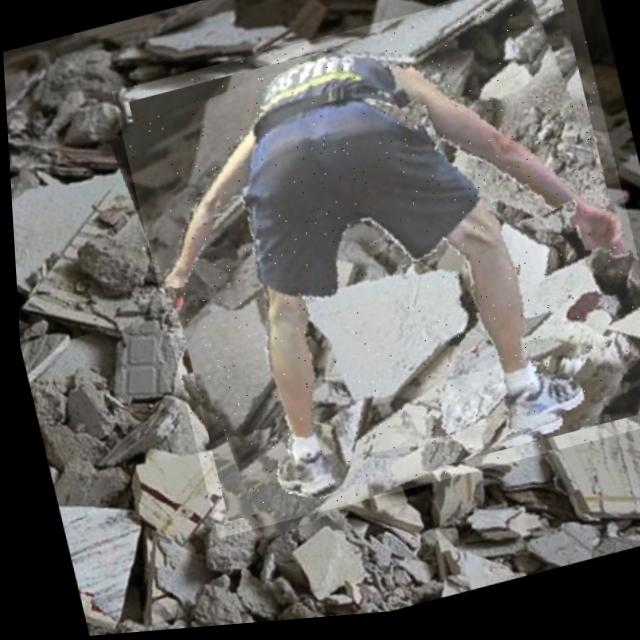Person in Rubble: (106, 0, 640, 546)
